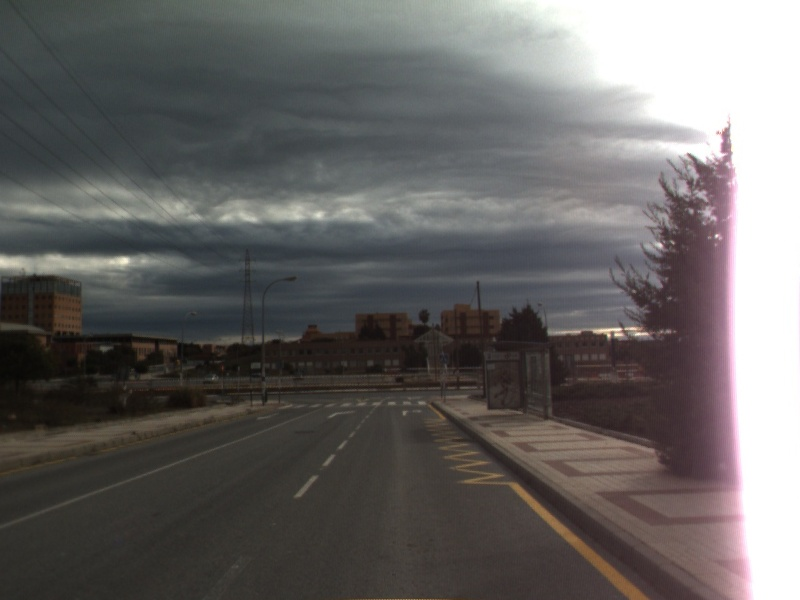RIGHT: (325, 408, 360, 420), (399, 407, 425, 419)
